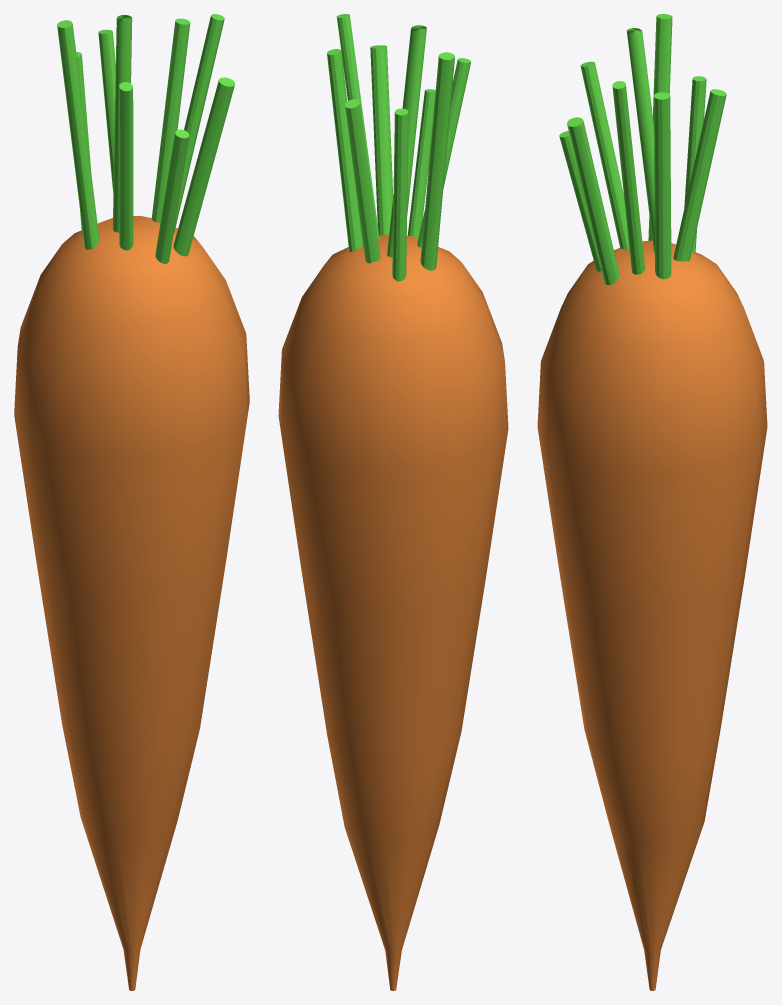
Rendered from Carrot Model.fbx.
The picture shows the model from 3 angles, left to right: view 1: azimuth 30°, elevation 25°; view 2: azimuth 150°, elevation 25°; view 3: azimuth 270°, elevation 25°; orthographic projection. The views are drawn at different scales.
Visible parts, largest first — view 1: Cylinder, Cylinder.007, Cylinder.009, Cylinder.002, Cylinder.003, Cylinder.001, Cylinder.006, Cylinder.004, Cylinder.005; view 2: Cylinder, Cylinder.007, Cylinder.009, Cylinder.002, Cylinder.005, Cylinder.008, Cylinder.004, Cylinder.006, Cylinder.001, Cylinder.003; view 3: Cylinder, Cylinder.002, Cylinder.005, Cylinder.009, Cylinder.003, Cylinder.001, Cylinder.004, Cylinder.007, Cylinder.008, Cylinder.006.
Boxes of the visible parts, x1,y1,x2,y2 form: Cylinder: [14, 216, 249, 990]; Cylinder.007: [57, 20, 99, 249]; Cylinder.009: [173, 77, 234, 256]; Cylinder.002: [151, 18, 190, 222]; Cylinder.003: [119, 82, 133, 250]; Cylinder.001: [173, 14, 224, 233]; Cylinder.006: [155, 129, 189, 263]; Cylinder.004: [112, 15, 132, 232]; Cylinder.005: [98, 29, 115, 192]; Cylinder: [278, 234, 508, 990]; Cylinder.007: [420, 52, 454, 270]; Cylinder.009: [370, 45, 393, 235]; Cylinder.002: [327, 49, 363, 251]; Cylinder.005: [345, 99, 380, 263]; Cylinder.008: [392, 108, 408, 281]; Cylinder.004: [387, 25, 426, 257]; Cylinder.006: [407, 89, 435, 238]; Cylinder.001: [336, 14, 379, 238]; Cylinder.003: [417, 58, 470, 247]; Cylinder: [537, 240, 767, 990]; Cylinder.002: [654, 92, 671, 279]; Cylinder.005: [673, 89, 726, 261]; Cylinder.009: [567, 117, 619, 284]; Cylinder.003: [580, 61, 629, 249]; Cylinder.001: [612, 81, 645, 274]; Cylinder.004: [626, 28, 654, 253]; Cylinder.007: [648, 14, 672, 240]; Cylinder.008: [684, 76, 706, 253]; Cylinder.006: [559, 131, 601, 271].
Bounding box in the file's own units: 89.51 × 408 × 89.51.
